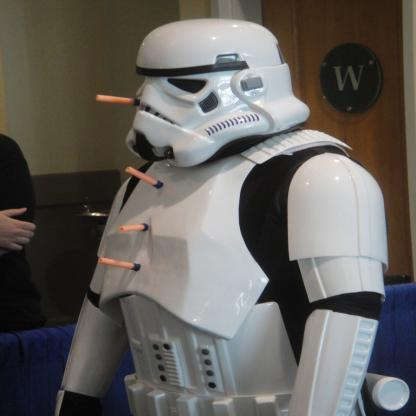Helmet: (109, 27, 319, 153)
